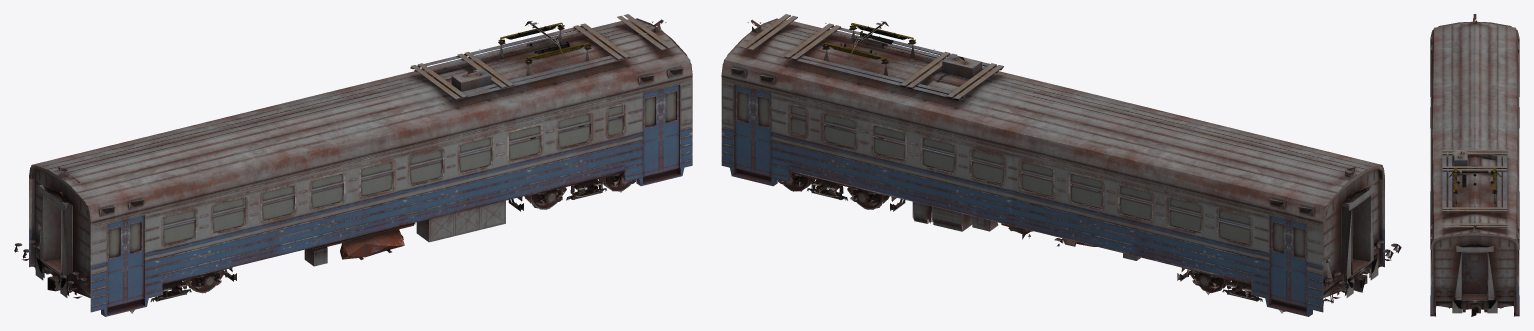
The model's file is old_coach.glb.
3 views of the same model, side by side, from view 1: azimuth 30°, elevation 25°; view 2: azimuth 150°, elevation 25°; view 3: azimuth 270°, elevation 25° (orthographic). The views are drawn at different scales.
Parts seen in each view (by area): view 1: old_coach; view 2: old_coach; view 3: old_coach.
Part boxes in pixels (x1,y1,x2,y2): old_coach: [14, 14, 692, 316]; old_coach: [721, 14, 1401, 316]; old_coach: [1430, 14, 1519, 316].
Bounding box in the file's own units: 16.84 × 4.29 × 2.87.
1 material, 1 textured.
